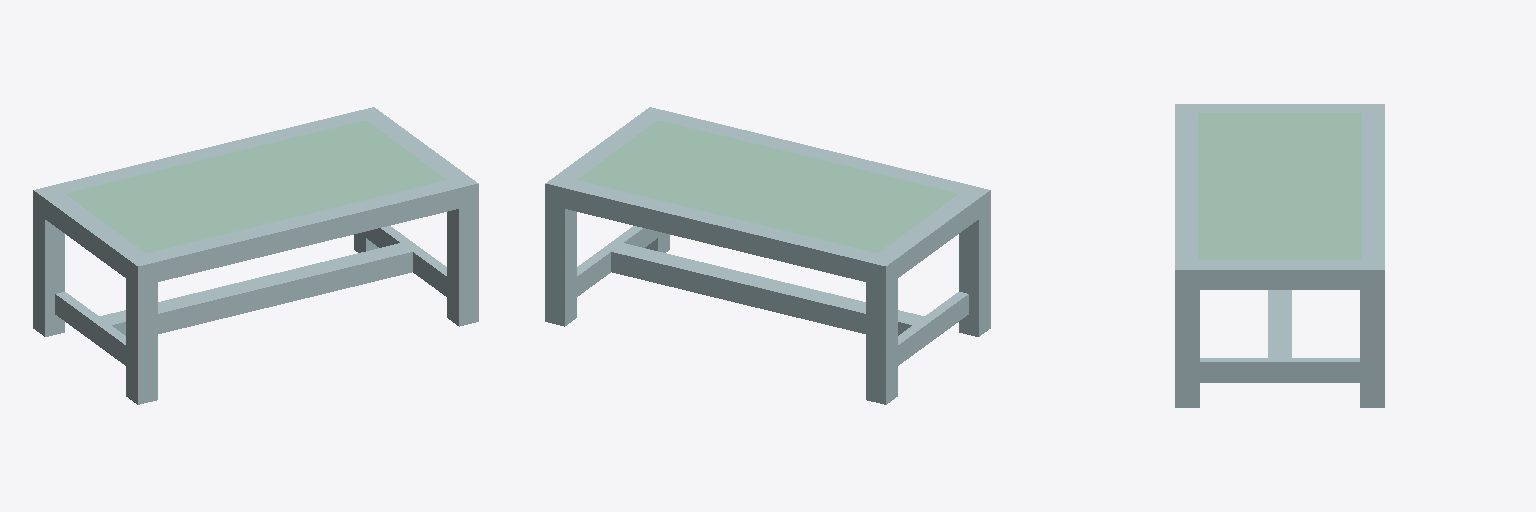
Rendered from tableGlass.obj.
3 views of the same model, side by side, from view 1: azimuth 30°, elevation 25°; view 2: azimuth 150°, elevation 25°; view 3: azimuth 270°, elevation 25° (orthographic).
Parts seen in each view (by area): view 1: tableGlass; view 2: tableGlass; view 3: tableGlass.
Boxes of the visible parts, x1=… form: tableGlass: x1=33, y1=107, x2=478, y2=404; tableGlass: x1=545, y1=107, x2=990, y2=404; tableGlass: x1=1175, y1=104, x2=1384, y2=407.
Size of the model in its own units: 0.8415 by 0.3267 by 0.4474.